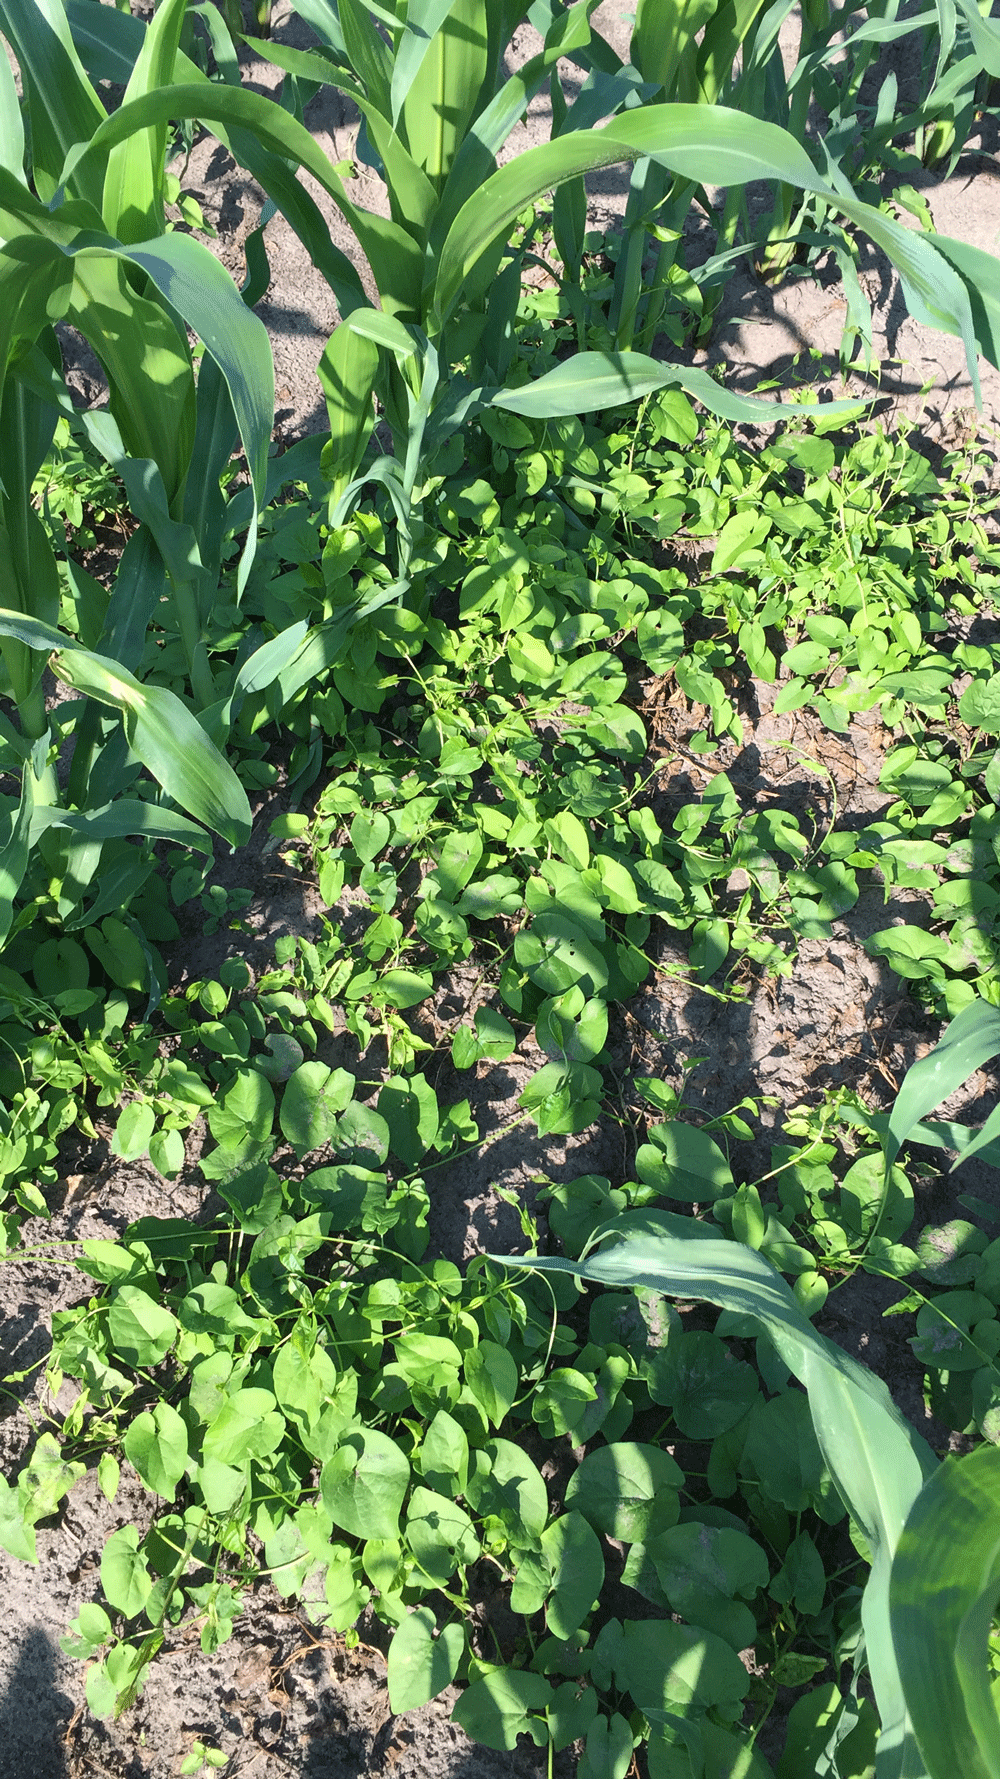haagwinde: (5, 1197, 737, 1692), (281, 582, 807, 1120)
